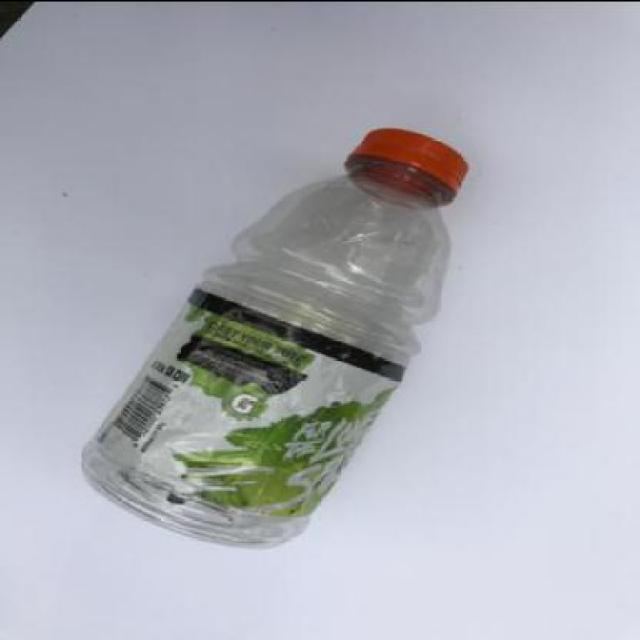PLASTIC: (79, 129, 467, 548), (90, 288, 404, 515), (344, 128, 470, 206)
